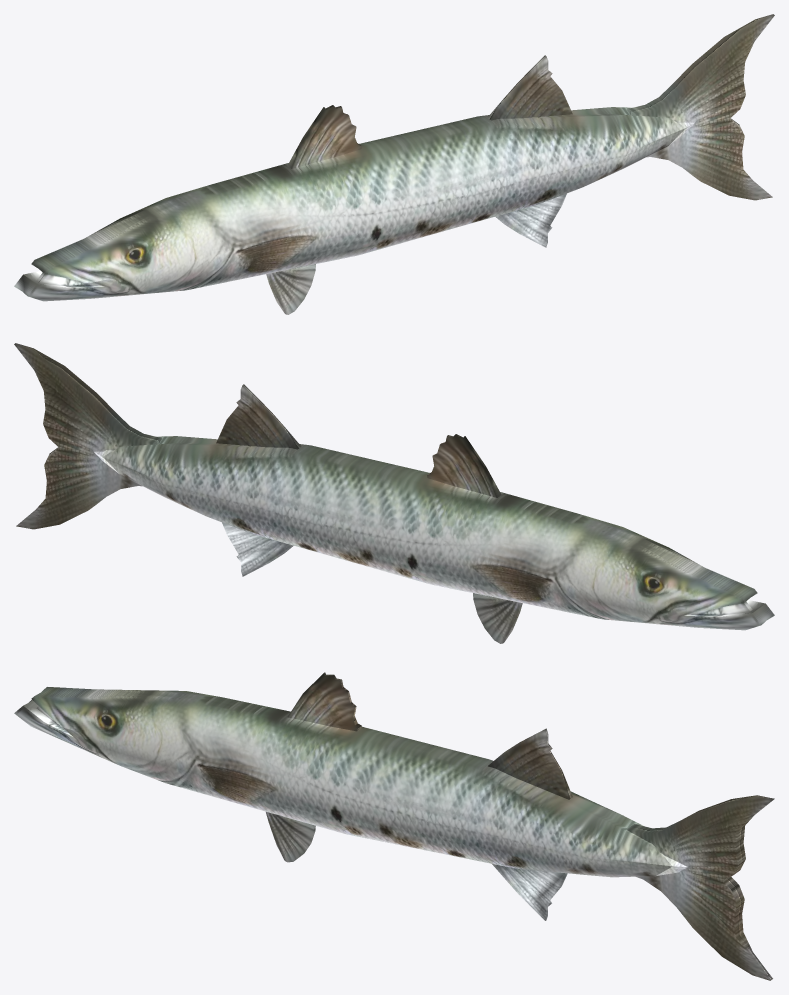
3 views of the same model, one above another, from view 1: azimuth 30°, elevation 25°; view 2: azimuth 150°, elevation 25°; view 3: azimuth 330°, elevation 25° (orthographic).
Visible parts, largest first — view 1: Barracuda; view 2: Barracuda; view 3: Barracuda.
Part boxes in pixels (<box>): Barracuda: <box>14,14,774,314</box>; Barracuda: <box>14,343,774,643</box>; Barracuda: <box>14,672,774,980</box>.
Size of the model in its own units: 2.04 by 0.5122 by 0.2028.
1 material, 1 textured.
